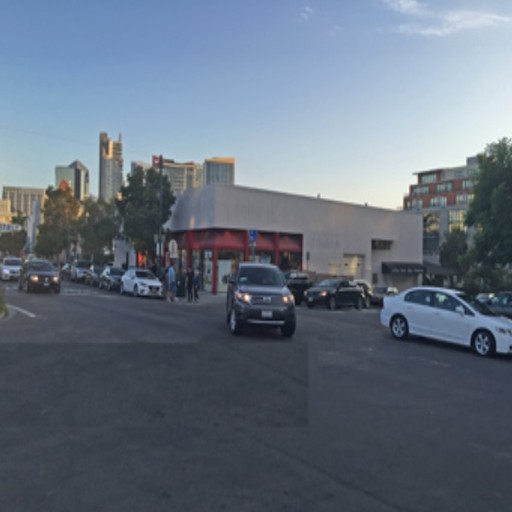car: (377, 283, 512, 360), (219, 261, 300, 339), (303, 275, 372, 313), (18, 255, 67, 296), (117, 267, 167, 300)
